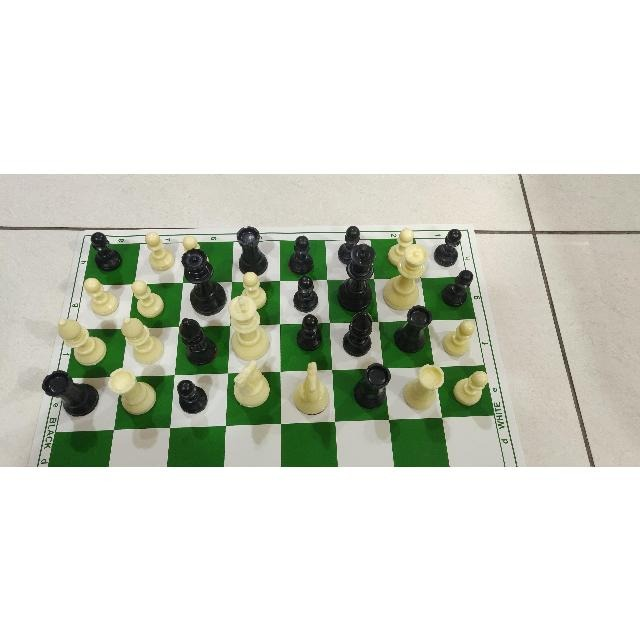black-bishop: (173, 315, 219, 367), (336, 304, 376, 361)
black-king: (336, 240, 381, 318)
black-pawn: (170, 369, 212, 418), (88, 229, 126, 275), (442, 267, 480, 309), (285, 232, 321, 275), (333, 222, 367, 267), (288, 271, 323, 313), (292, 310, 324, 354), (430, 225, 461, 268)
black-queen: (176, 246, 230, 319)
black-rook: (37, 364, 103, 425), (391, 298, 437, 357), (225, 223, 273, 277), (346, 358, 393, 410)
white-bishop: (49, 311, 109, 369), (112, 313, 167, 368)
white-king: (224, 291, 281, 365)
white-knight: (227, 356, 283, 419), (288, 358, 335, 418)
white-pawn: (448, 358, 492, 410), (382, 220, 423, 272), (80, 271, 122, 321), (130, 270, 170, 322), (140, 226, 178, 278), (233, 269, 273, 318), (440, 316, 481, 360), (181, 231, 214, 279)
white-queen: (379, 239, 431, 317)
white-rook: (103, 365, 160, 421), (399, 358, 446, 415)
